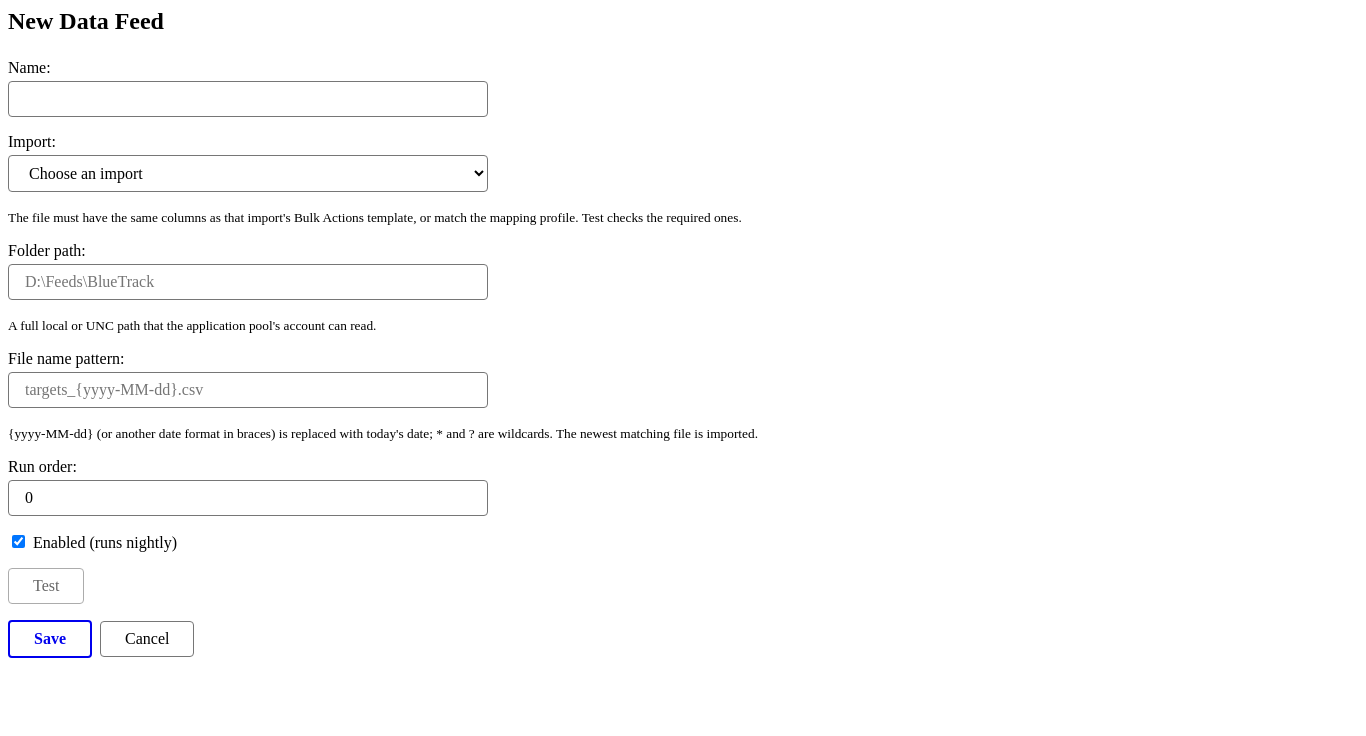
Test: DataFeedEdit.vue source system (D-212) › Enter in the new source system boxes adds the source system, and does not save the feed
The width and height of the screenshot is (1366, 736).
Select "Account inventory" in the dropdown labelled "Import:" at (248, 174), box [8,155,488,192]
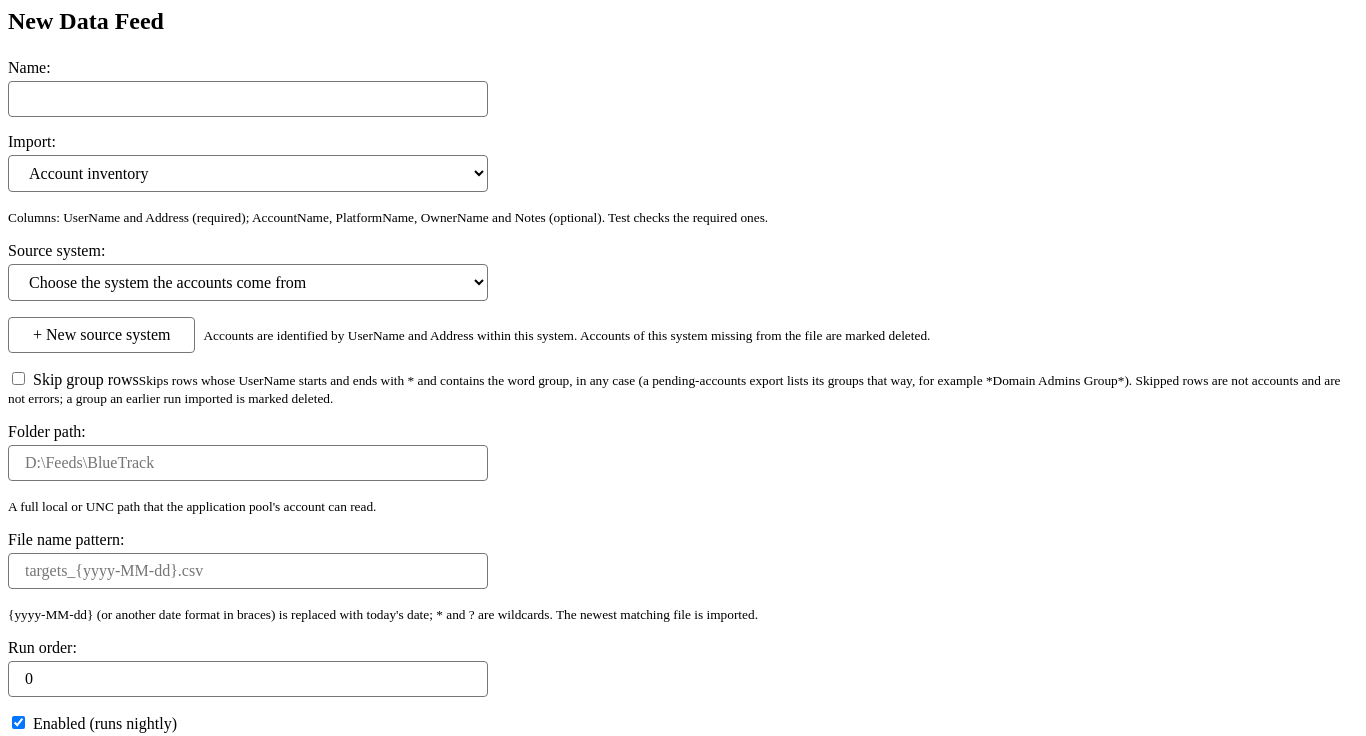
Click the button "+ New source system".
click(102, 335)  # box [8,317,195,353]
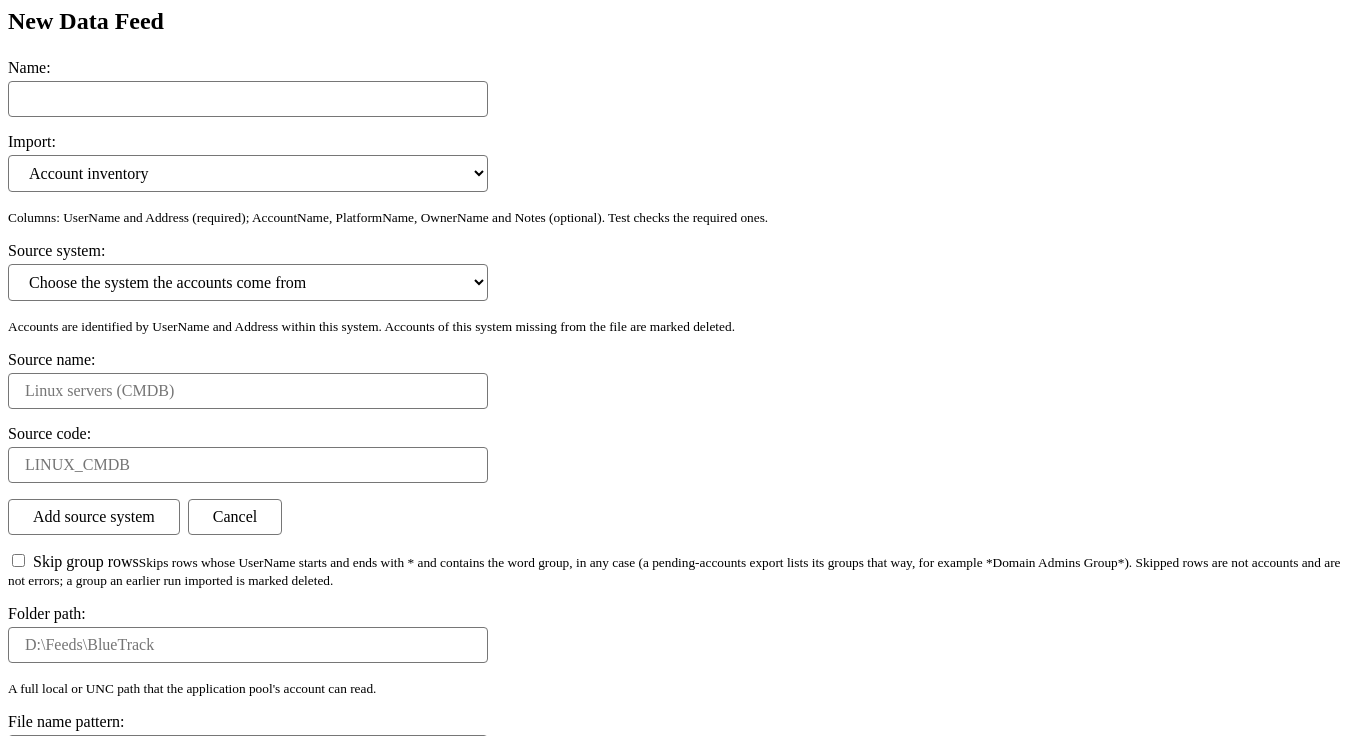
Type "Linux servers" into the field labelled "Source name:".
click(248, 391); type("Linux servers")  # box [8,373,488,409]
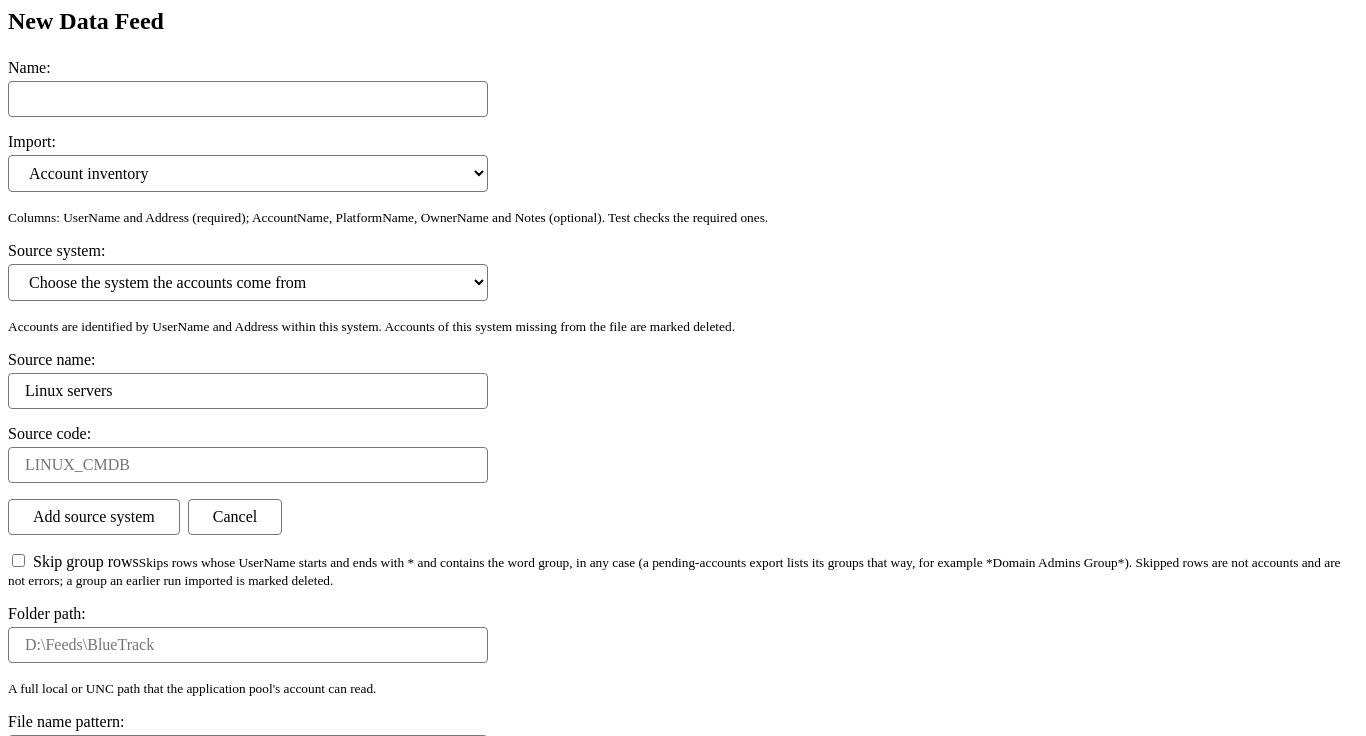
Type "LINUX" into the field with placeholder "LINUX_CMDB".
click(248, 465); type("LINUX")  # box [8,447,488,483]
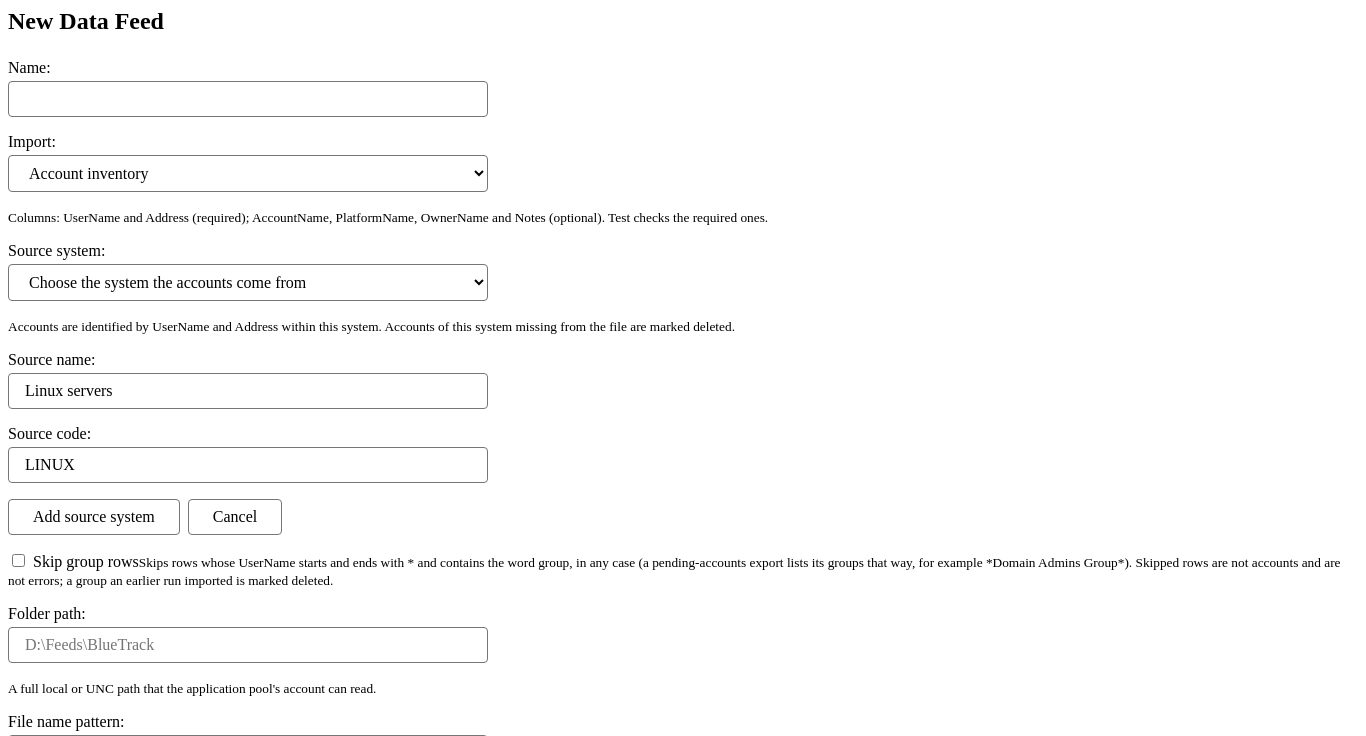
Press Enter in the field with placeholder "LINUX_CMDB", box [8,447,488,483]
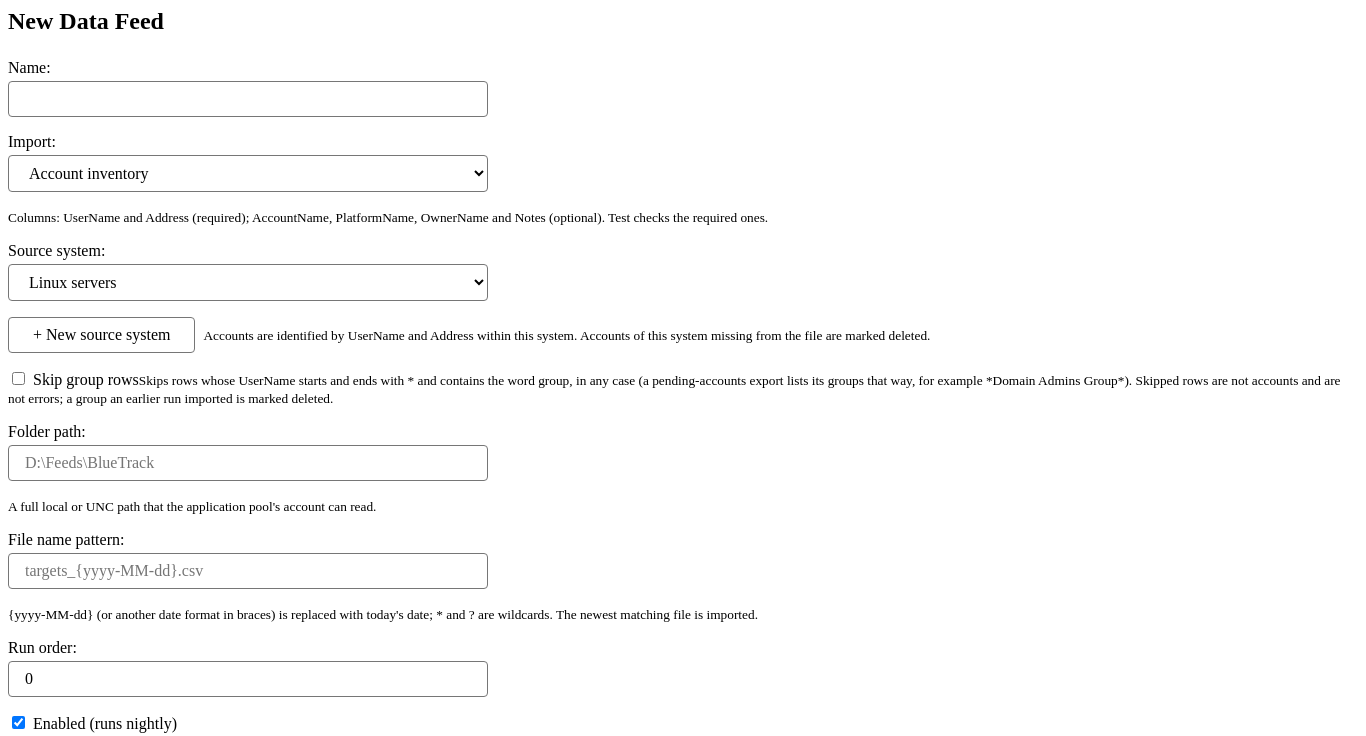
expect the dropdown labelled "Source system:" shows "Linux servers": met, box [8,264,488,301]
